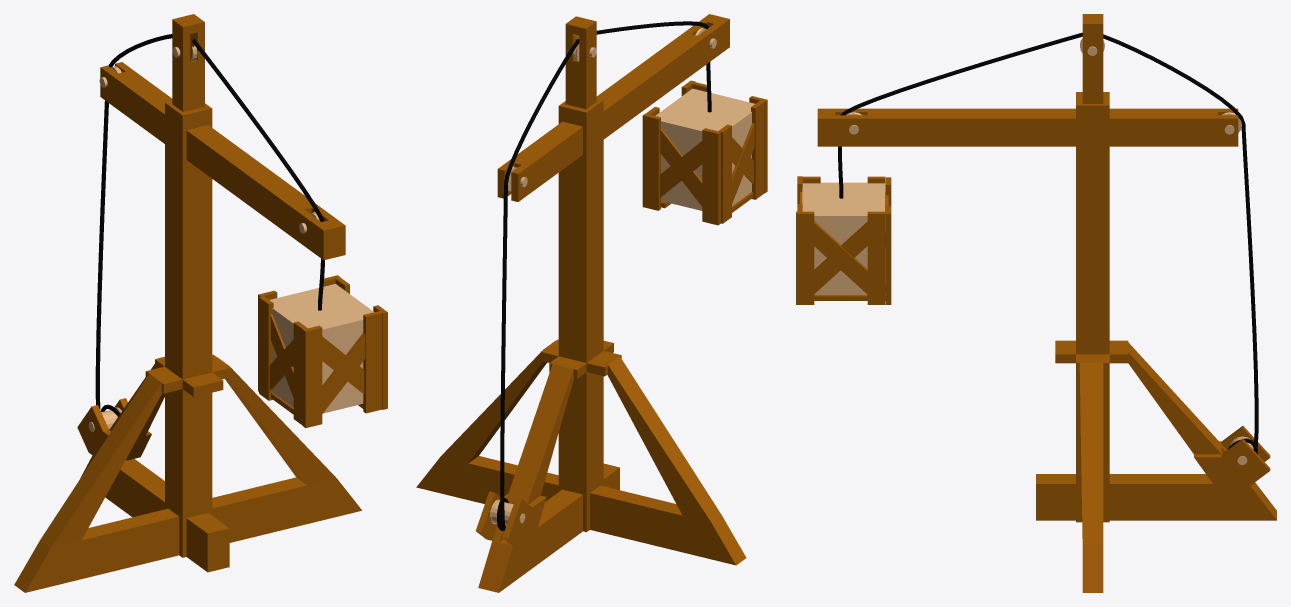
File: BoxGantung.fbx
3 renders of one model, left to right at view 1: azimuth 30°, elevation 25°; view 2: azimuth 150°, elevation 25°; view 3: azimuth 270°, elevation 25°, orthographic. The views are drawn at different scales.
Visible parts, largest first — view 1: Cube, Cube.001, BezierCurve, Cylinder; view 2: Cube, Cube.001, BezierCurve, Cylinder; view 3: Cube, Cube.001, BezierCurve, Cylinder.
Boxes of the visible parts, x1,y1,x2,y2 form: Cube: (14, 14, 361, 592); Cube.001: (258, 275, 387, 428); BezierCurve: (95, 34, 324, 416); Cylinder: (88, 45, 319, 432); Cube: (416, 14, 746, 592); Cube.001: (642, 80, 767, 225); BezierCurve: (497, 21, 711, 530); Cylinder: (489, 28, 716, 525); Cube: (817, 14, 1276, 592); Cube.001: (796, 176, 891, 304); BezierCurve: (838, 32, 1258, 454); Cylinder: (846, 38, 1253, 465).
Bounding box in the file's own units: 731 × 1092 × 958.
